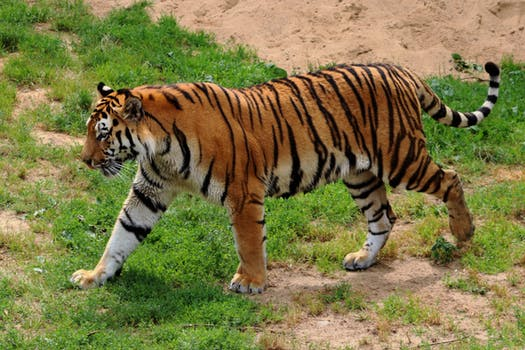tiger: (67, 59, 501, 297)
